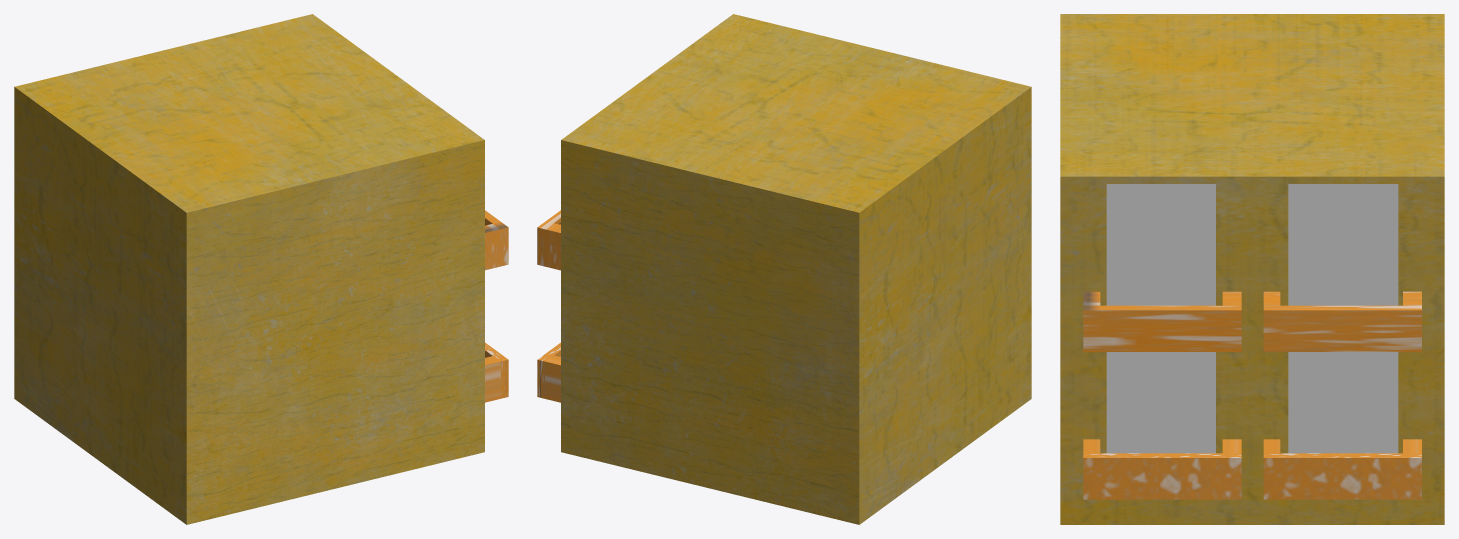
File: predio1.fbx
The picture shows the model from 3 angles, left to right: view 1: azimuth 30°, elevation 25°; view 2: azimuth 150°, elevation 25°; view 3: azimuth 270°, elevation 25°; orthographic projection. The views are drawn at different scales.
Parts seen in each view (by area): view 1: Cube; view 2: Cube; view 3: Cube.
Part boxes in pixels (x1,y1,x2,y2): Cube: (14,14,508,524); Cube: (537,14,1031,524); Cube: (1060,14,1444,524).
Bounding box in the file's own units: 1863 × 1672 × 1672.
